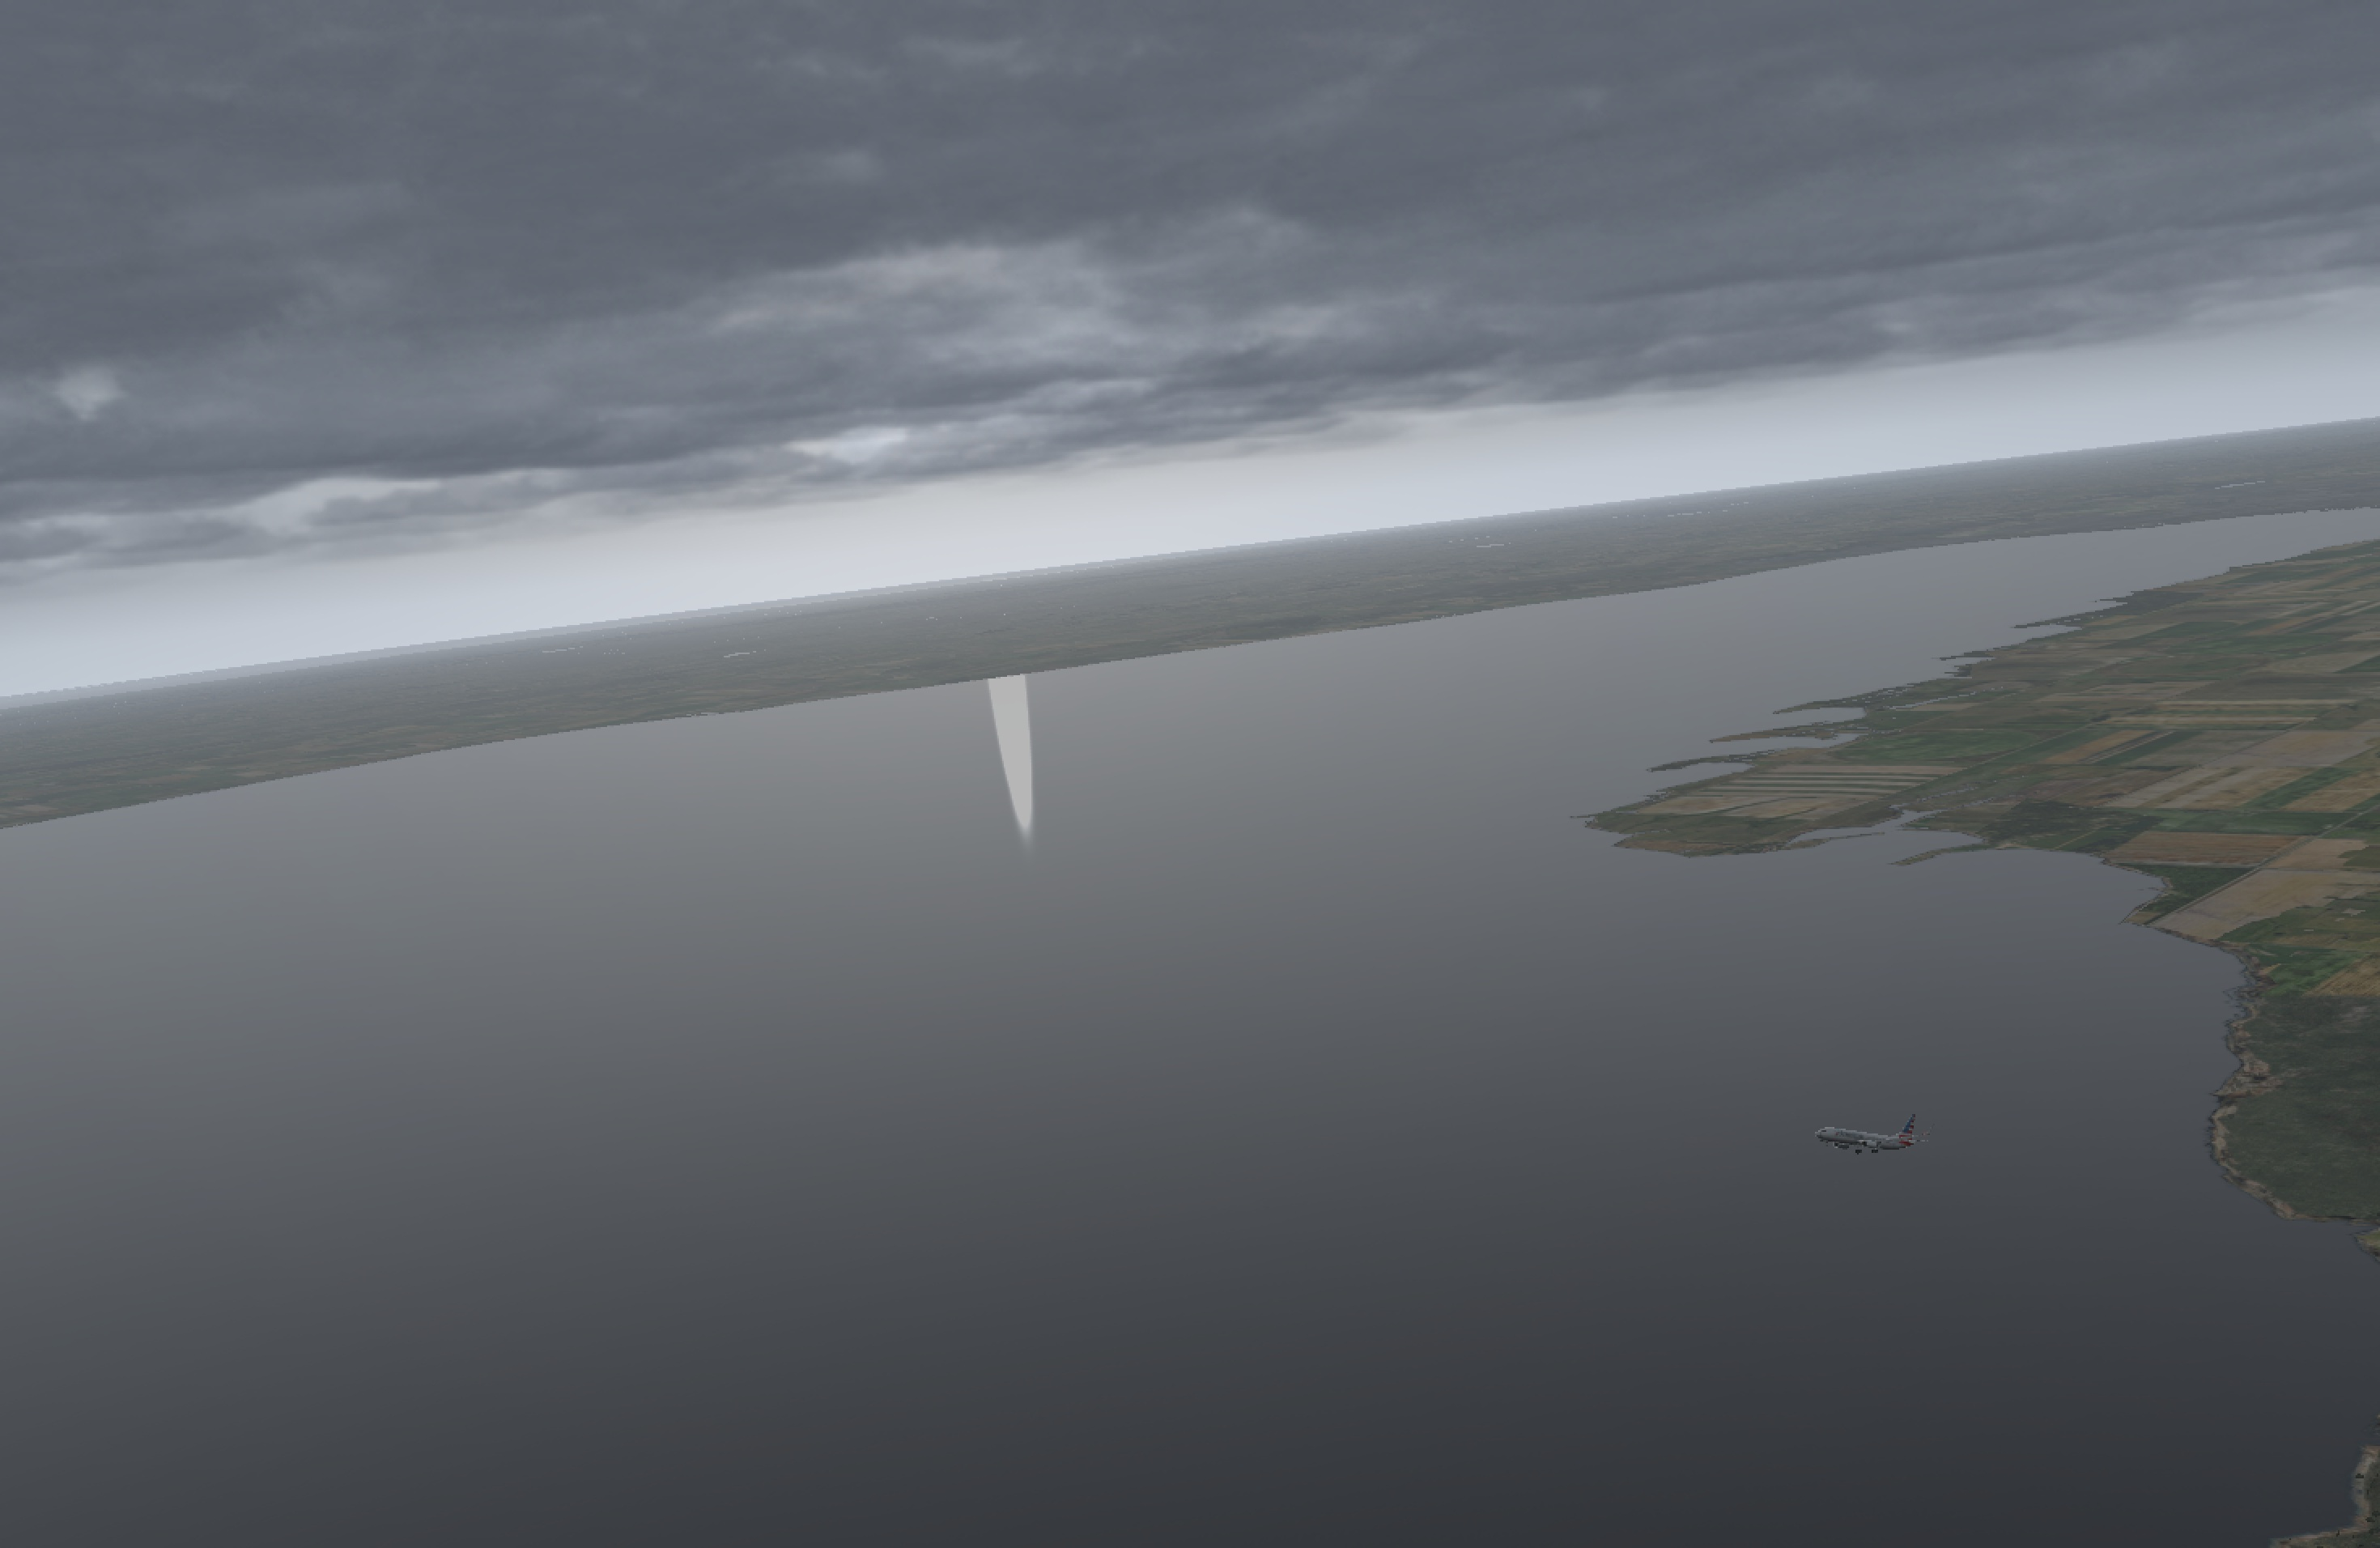aircraft: (1795, 1116, 1931, 1168)
